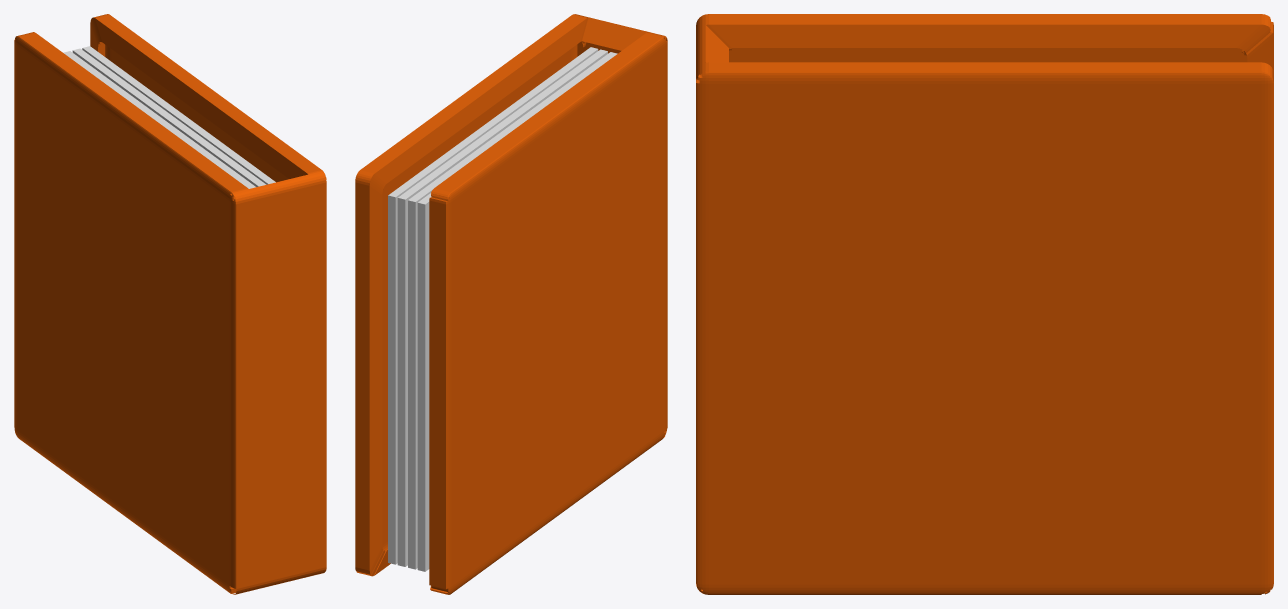
File: book.gltf
The picture shows the model from 3 angles, left to right: view 1: azimuth 30°, elevation 25°; view 2: azimuth 150°, elevation 25°; view 3: azimuth 270°, elevation 25°; orthographic projection. The views are drawn at different scales.
Visible parts, largest first — view 1: Cube.002, Cube, Cube.001, Cube.004; view 2: Cube.002, Cube, Cube.001, Cube.004, Cube.003; view 3: Cube.002.
Boxes of the visible parts, x1,y1,x2,y2 form: Cube.002: (14,14,326,594); Cube: (72,48,266,186); Cube.001: (82,46,275,184); Cube.004: (63,51,255,188); Cube.002: (355,14,667,594); Cube: (397,49,607,566); Cube.001: (388,47,598,564); Cube.004: (408,52,617,569); Cube.003: (417,193,431,571); Cube.002: (696,14,1273,594).
Size of the model in its own units: 0.293 by 1.2 by 1.2.
